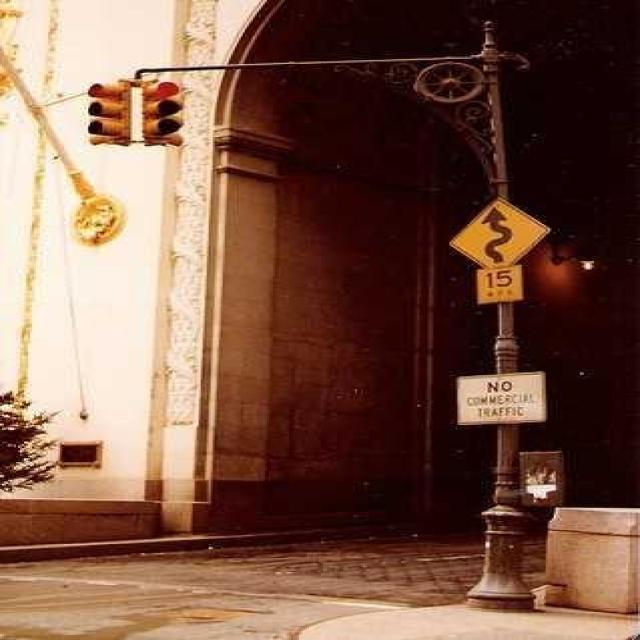Traffic Light -Red-: (133, 76, 192, 157)
